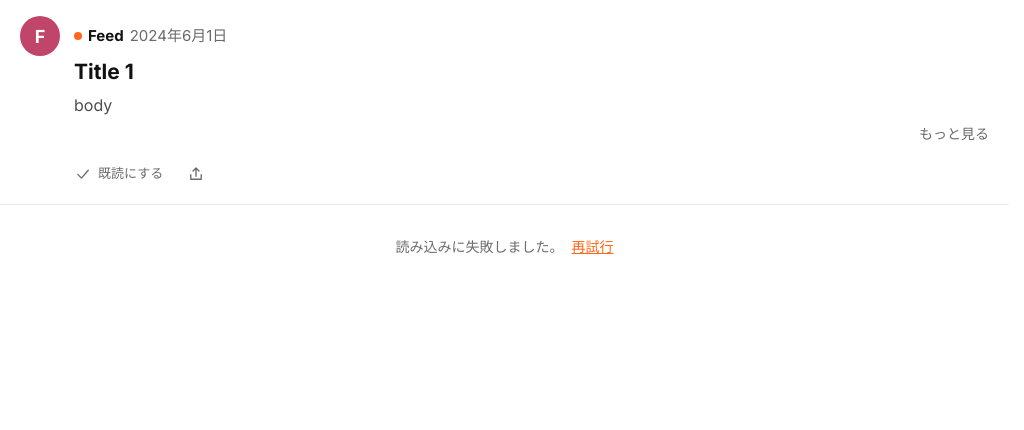
it: ArticleTimeline › stops auto-loading after a next-page failure and retries manually
The width and height of the screenshot is (1024, 430).
Expected: the link "Title 1" is shown, [74, 59, 134, 84]
Click the button "再試行" at (592, 247), box [572, 237, 614, 257]
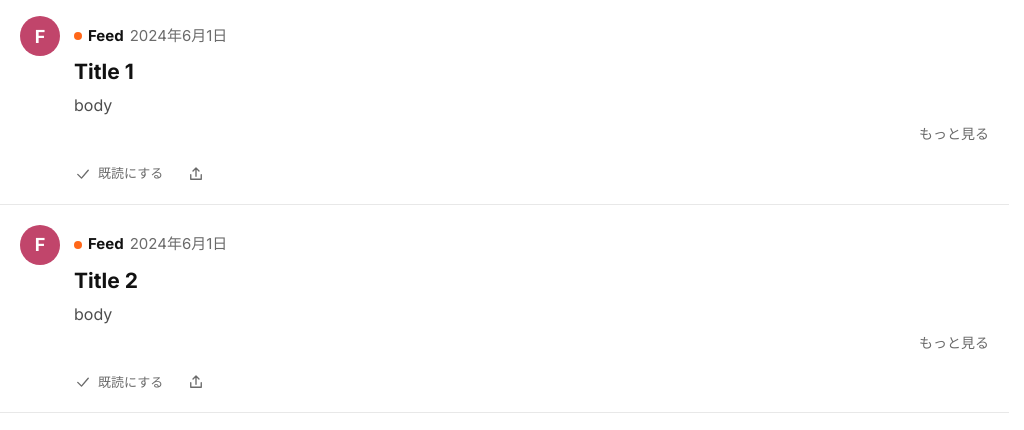
Expected: the link "Title 2" is shown, [74, 268, 138, 293]
